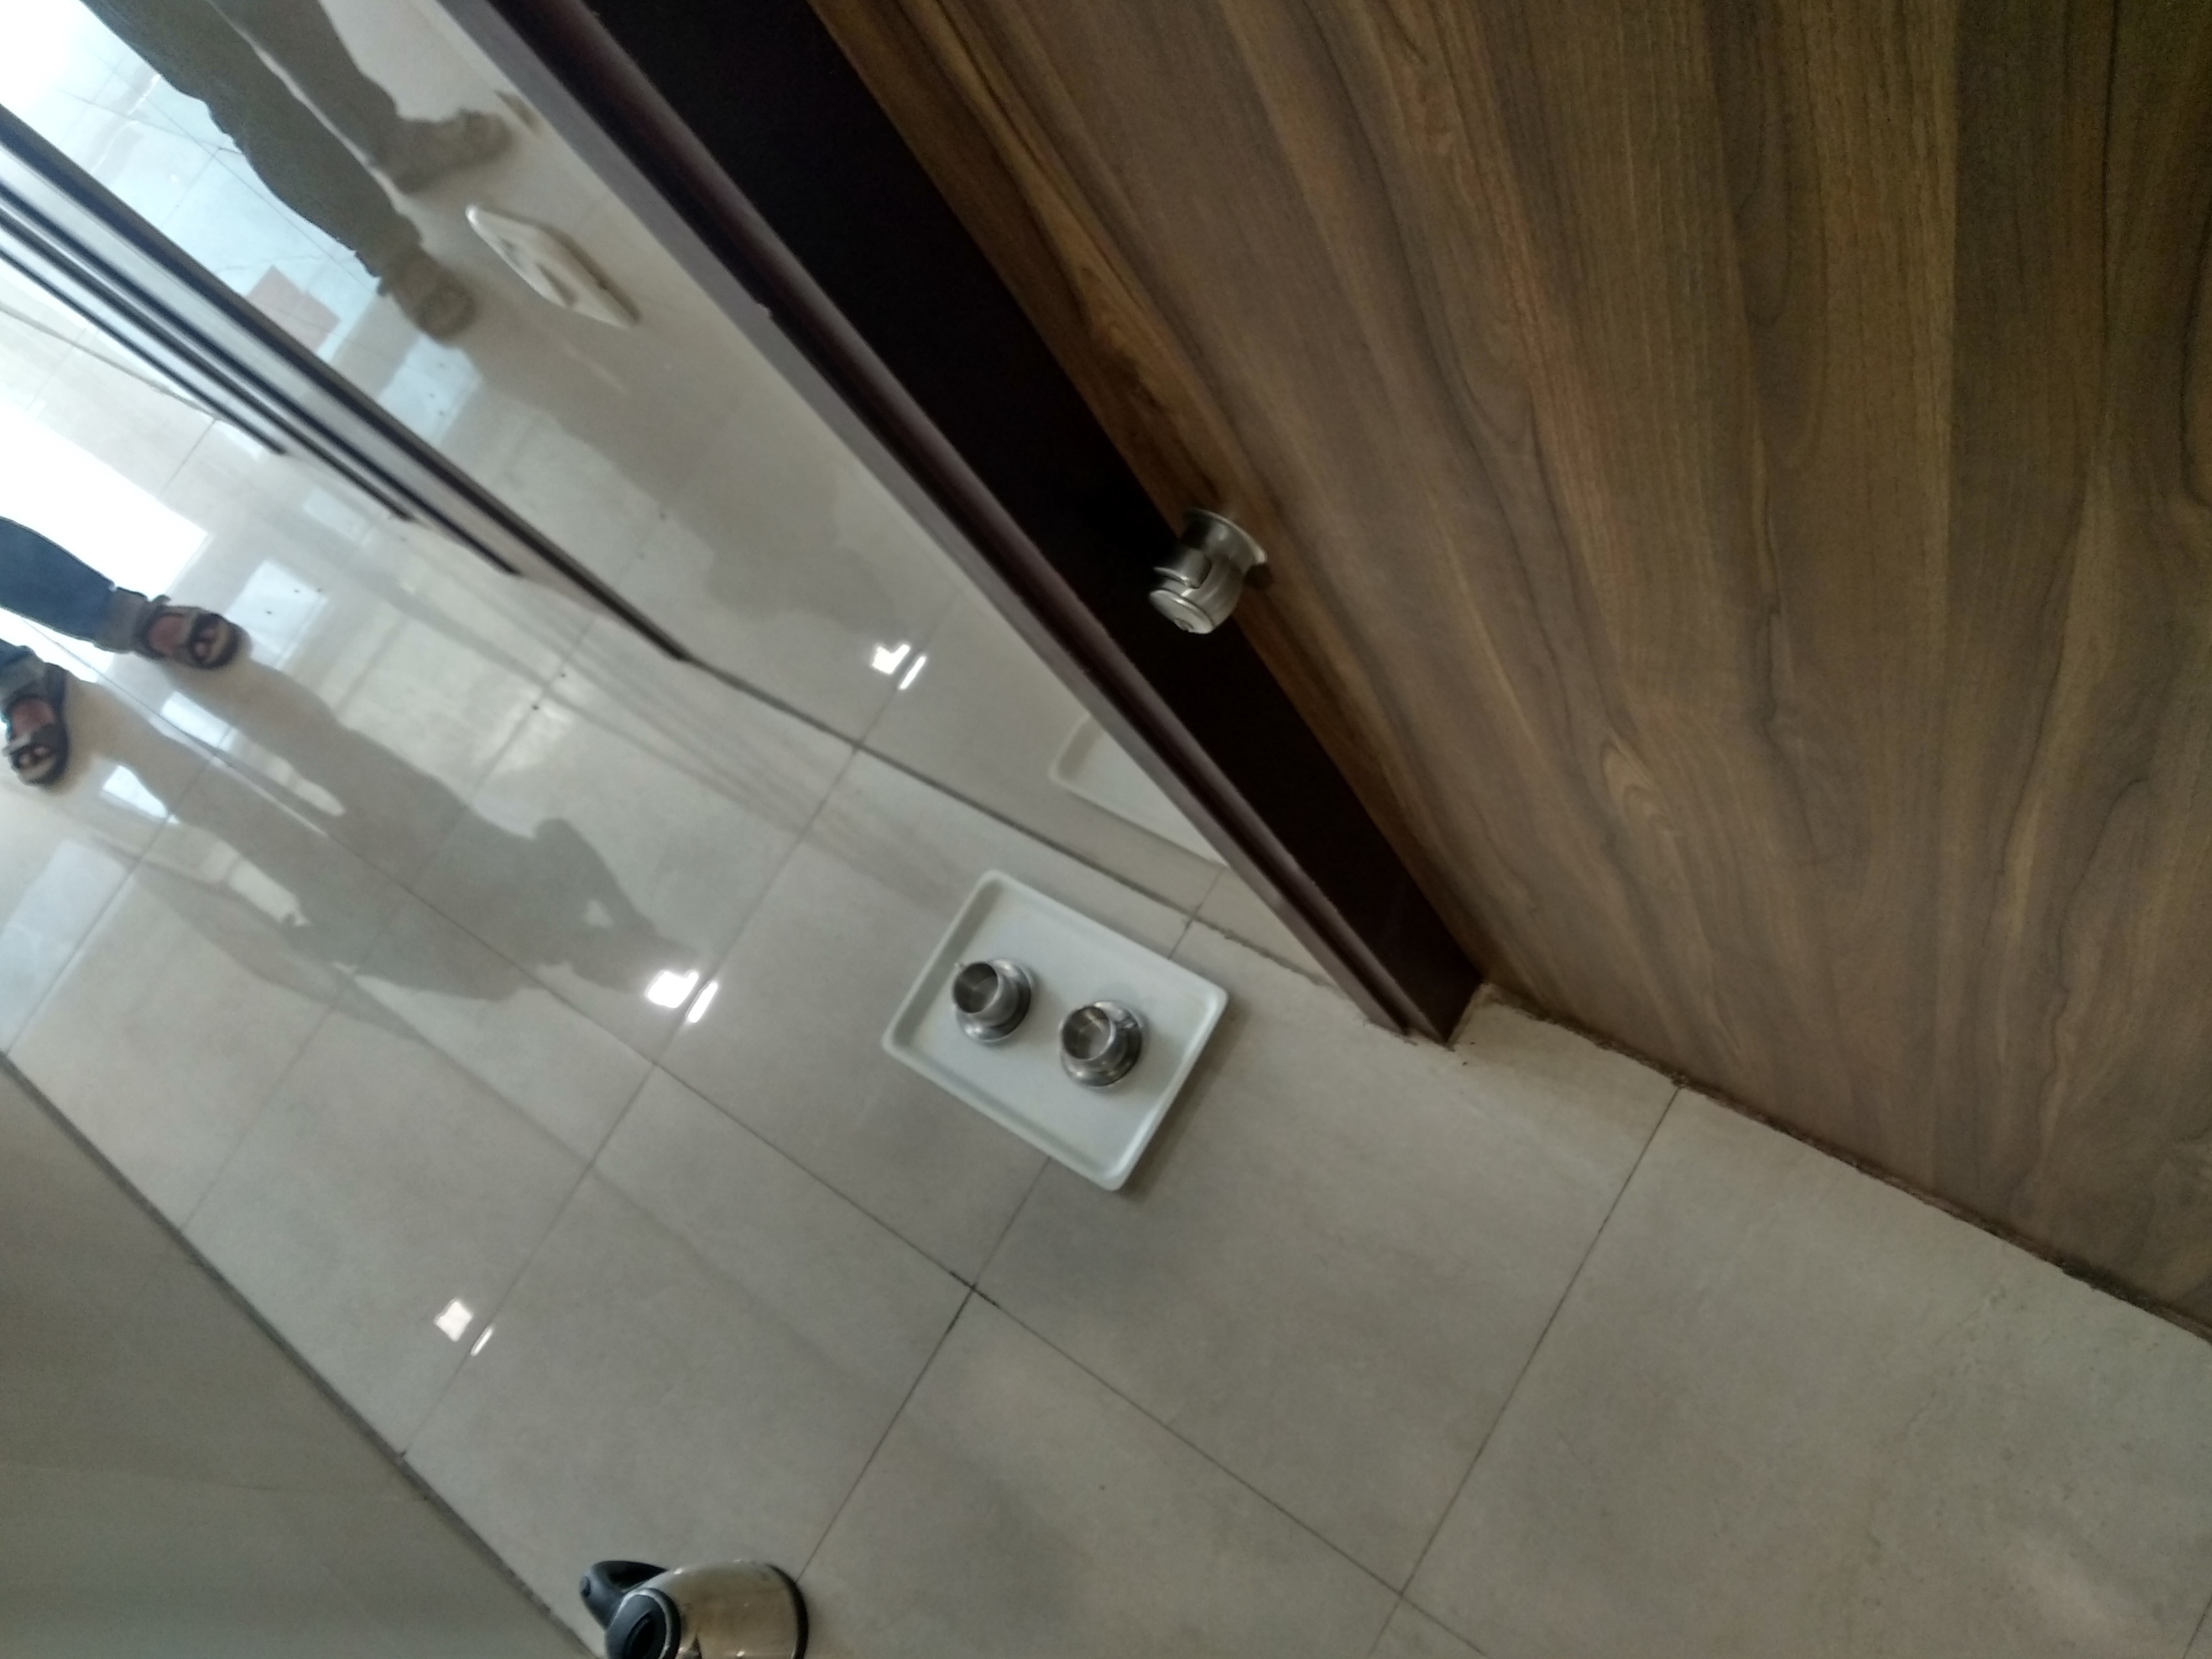CUP: (1066, 1012, 1144, 1091), (953, 950, 1007, 1037)
FLASK: (597, 1544, 819, 1654)
